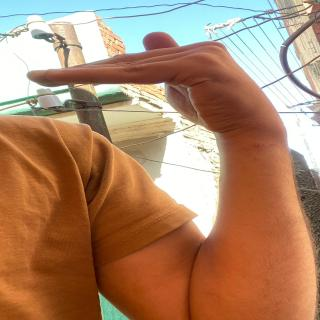KHAA: (18, 21, 320, 140)
